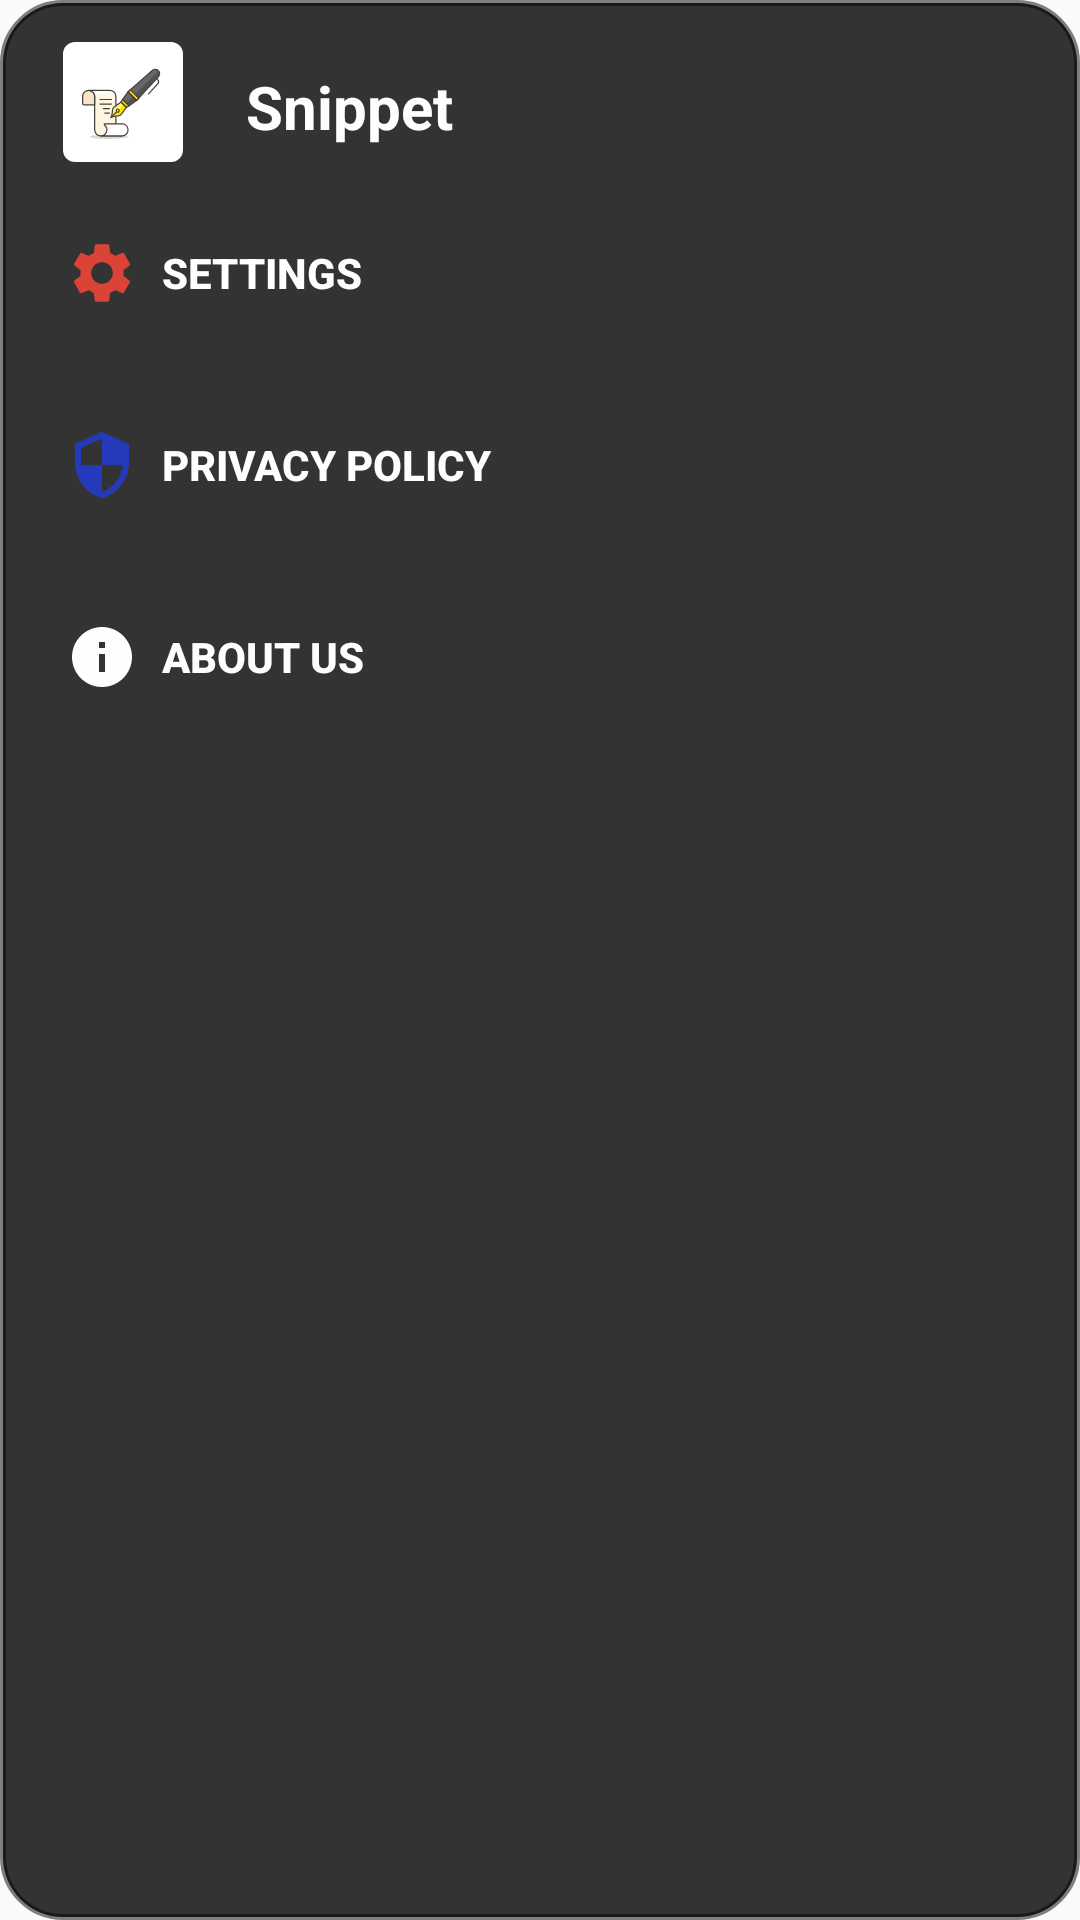

Named icons in this screenshot (1080px×1920px) and their bounding boxes, (x1, y1, x2, y2):
write paper ink: (63, 42, 183, 162)
